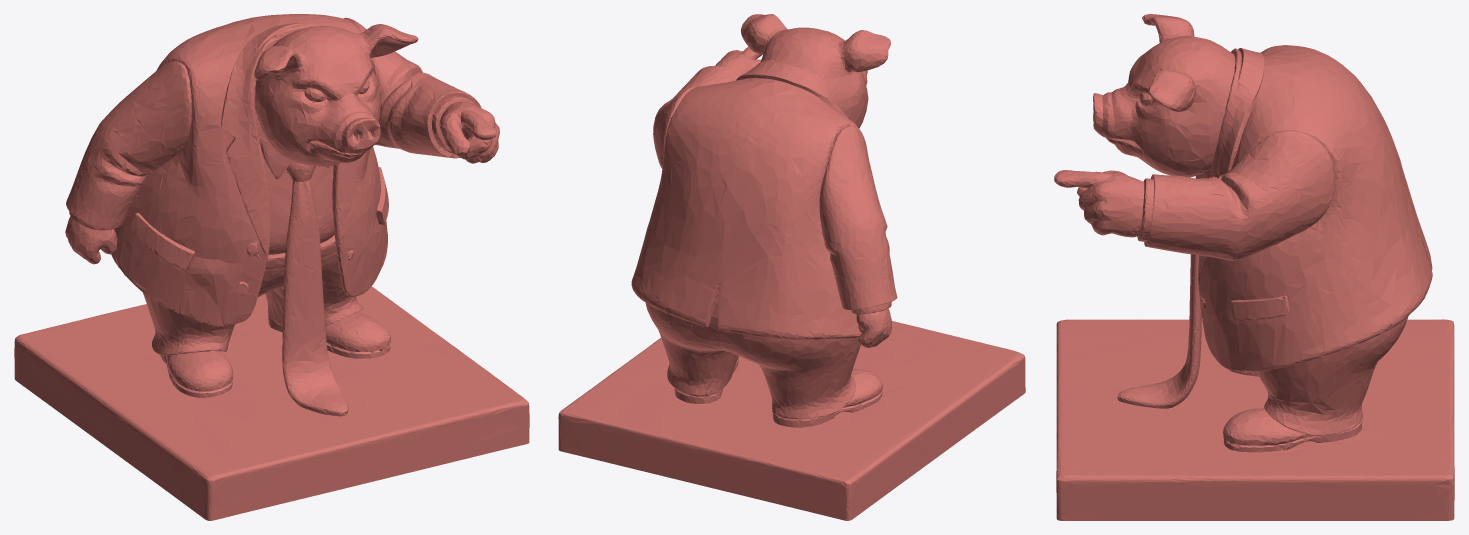
File: trump.glb
3 views of the same model, side by side, from view 1: azimuth 30°, elevation 25°; view 2: azimuth 150°, elevation 25°; view 3: azimuth 270°, elevation 25° (orthographic). The views are drawn at different scales.
Parts seen in each view (by area): view 1: world; view 2: world; view 3: world.
Part boxes in pixels (x1=…): world: x1=14, y1=14, x2=529, y2=520; world: x1=558, y1=14, x2=1025, y2=520; world: x1=1054, y1=14, x2=1454, y2=520.
Size of the model in its own units: 0.8396 by 1 by 0.8887.
